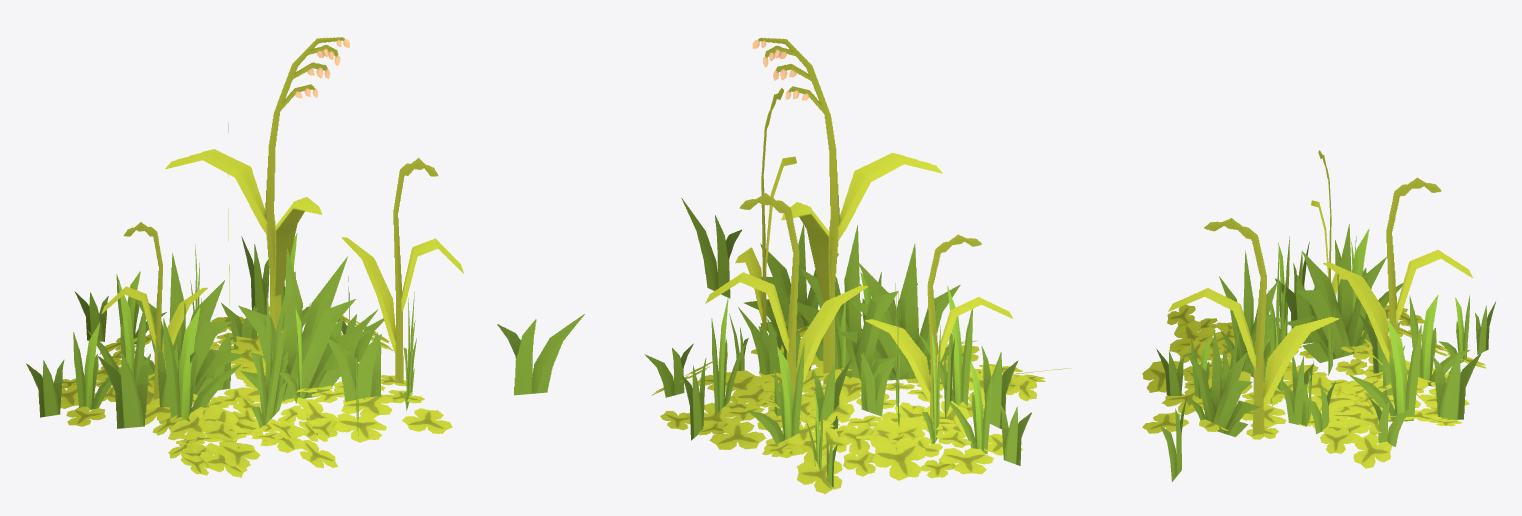
Rendered from SM_Env_Ground_Cover_03.glb.
The picture shows the model from 3 angles, left to right: view 1: azimuth 30°, elevation 25°; view 2: azimuth 150°, elevation 25°; view 3: azimuth 270°, elevation 25°; orthographic projection. The views are drawn at different scales.
Visible parts, largest first — view 1: SM_Env_Ground_Cover_03; view 2: SM_Env_Ground_Cover_03; view 3: SM_Env_Ground_Cover_03.
Boxes of the visible parts, bbox=[...] form: SM_Env_Ground_Cover_03: bbox=[26, 37, 584, 477]; SM_Env_Ground_Cover_03: bbox=[644, 37, 1071, 494]; SM_Env_Ground_Cover_03: bbox=[1142, 150, 1495, 481].
Bounding box in the file's own units: 2.08 × 1.6 × 1.61.
Materials: 1 (1 with a texture image).
